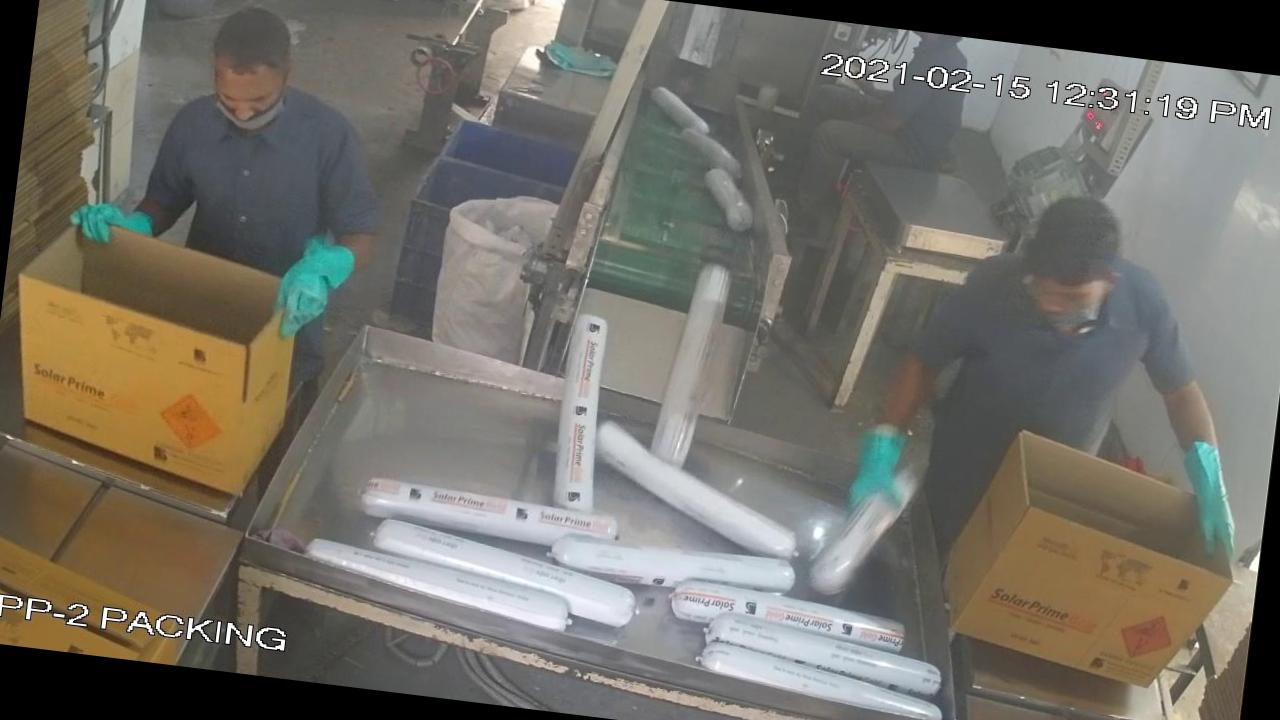Gloves: (1158, 408, 1266, 572), (828, 388, 938, 534), (260, 228, 372, 356), (41, 184, 174, 276)
